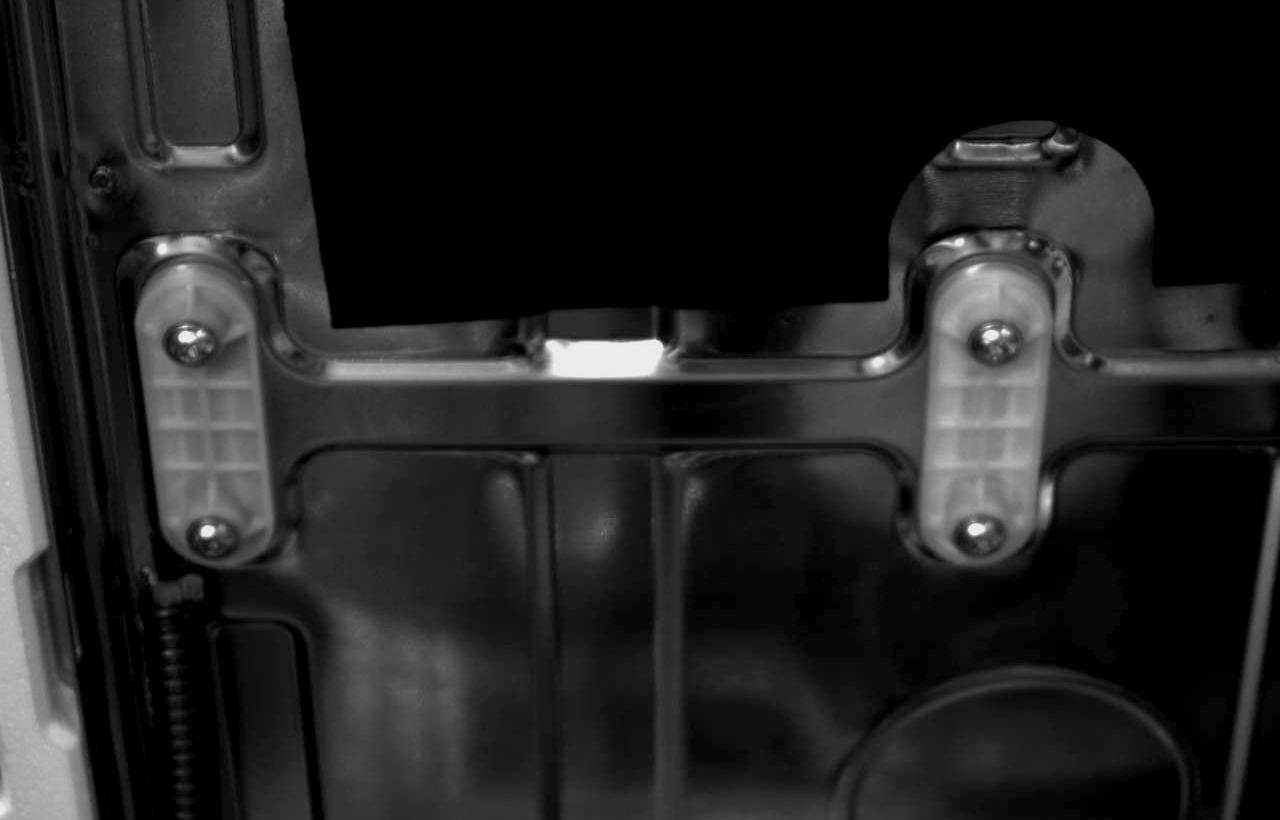vida-ok: (152, 301, 239, 378), (958, 296, 1045, 368), (172, 501, 252, 565), (942, 506, 1017, 565)
